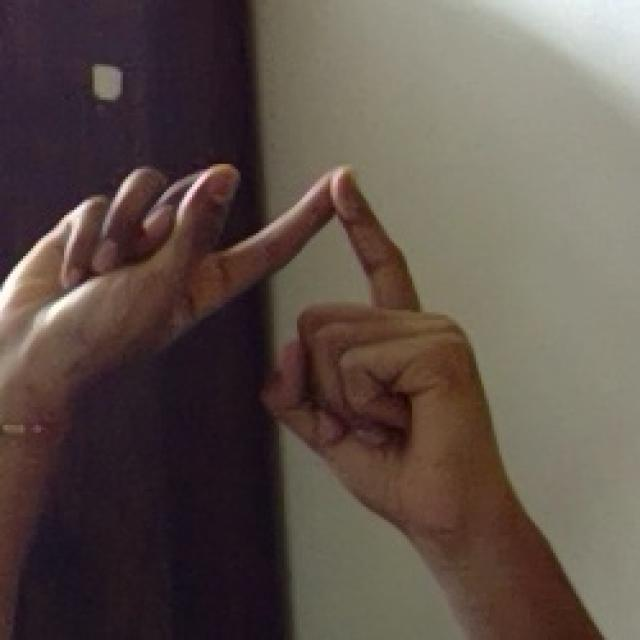Alphabet-E: (1, 166, 604, 640)
